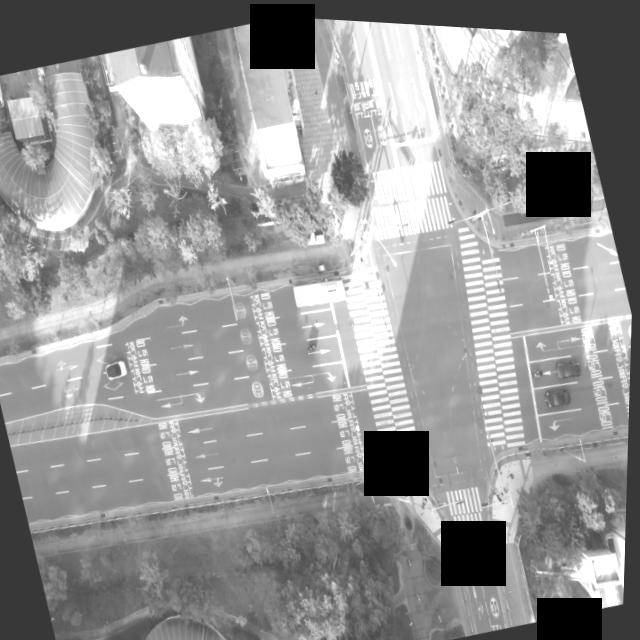car: (546, 378, 574, 401), (104, 356, 129, 379), (557, 349, 583, 371), (0, 74, 6, 109)
large_bus: (293, 270, 348, 305)
